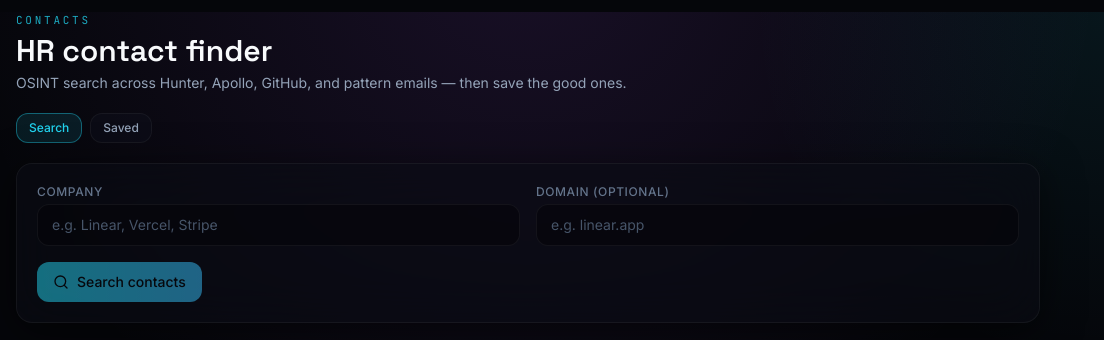
Scenario: ContactsPage › shows the saved tab with saved contacts
Click the button "Saved": x=121, y=128 [90,112,152,142]
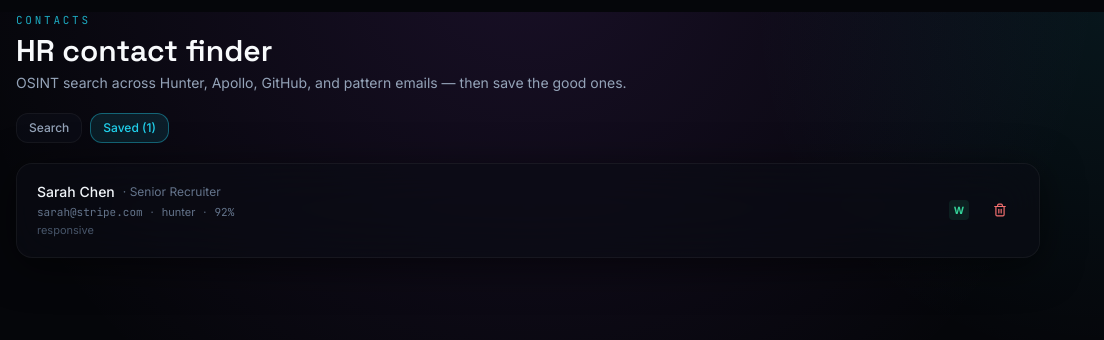
expect the text "Sarah Chen" is shown: met, box [37,182,115,202]
expect the text "sarah@stripe.com" is shown: met, box [37,204,143,220]
